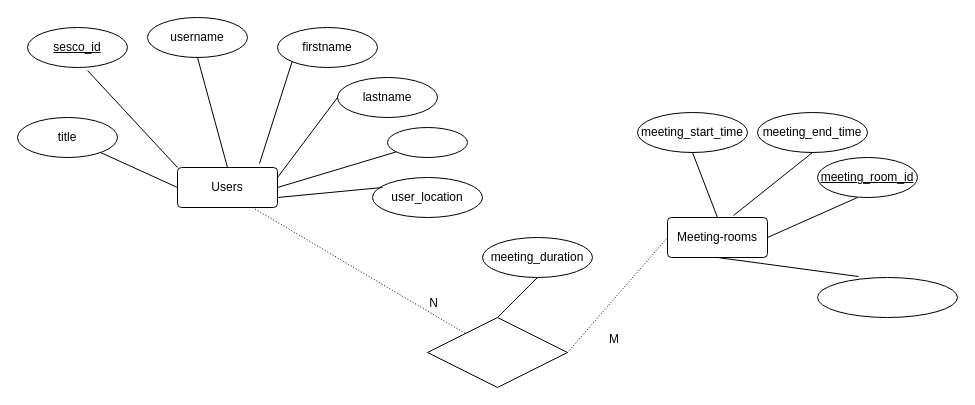
Image size: 975x405. Some labels were removed from this diagram. The shapes that lost their labels are listed below. From the top down, each one's centre as x and y in pixels, then its label:
(427,142): E_mail
(887,297): meeting_room_location
(497,352): assign meeting
